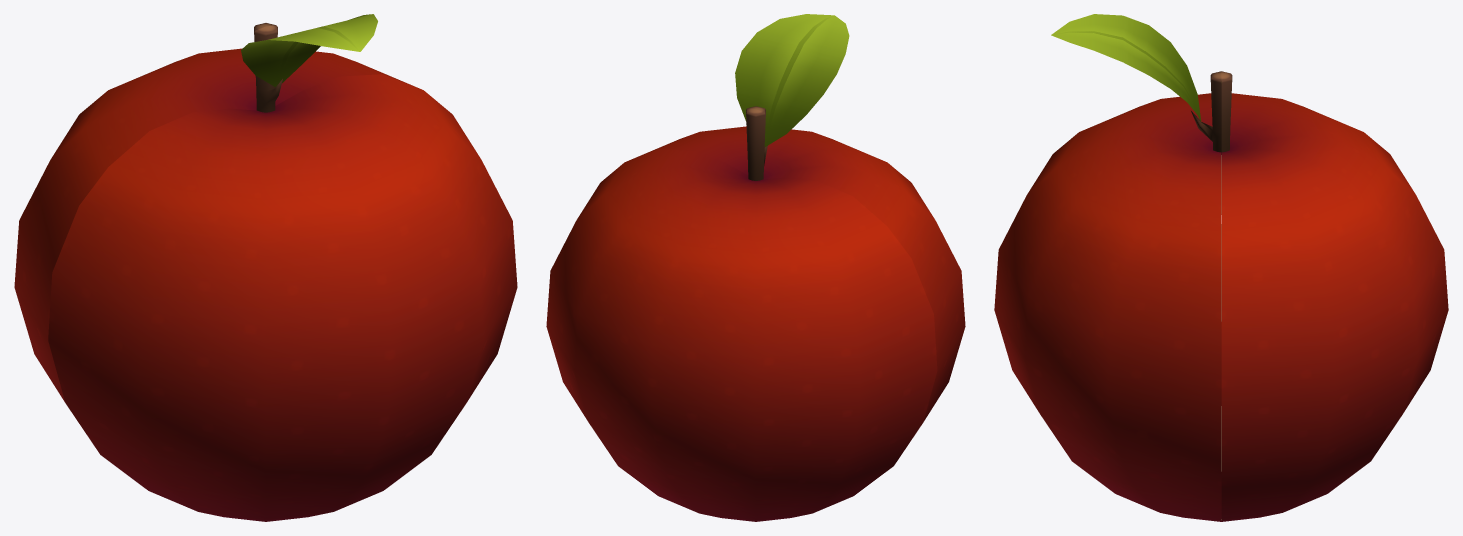
3 views of the same model, side by side, from view 1: azimuth 30°, elevation 25°; view 2: azimuth 150°, elevation 25°; view 3: azimuth 270°, elevation 25° (orthographic). The views are drawn at different scales.
Visible parts, largest first — view 1: Apple_R_Half_Back001, Apple_R_Half_Front001; view 2: Apple_R_Half_Front001, Apple_R_Half_Back001; view 3: Apple_R_Half_Back001, Apple_R_Half_Front001.
Boxes of the visible parts, x1,y1,x2,y2 form: Apple_R_Half_Back001: (48,14,517,521); Apple_R_Half_Front001: (14,23,421,401); Apple_R_Half_Front001: (546,108,937,521); Apple_R_Half_Back001: (629,14,965,422); Apple_R_Half_Back001: (994,14,1221,521); Apple_R_Half_Front001: (1221,71,1448,521).
Bounding box in the file's own units: 16.6 × 18.79 × 16.6.
Materials: 3 (3 with a texture image).
